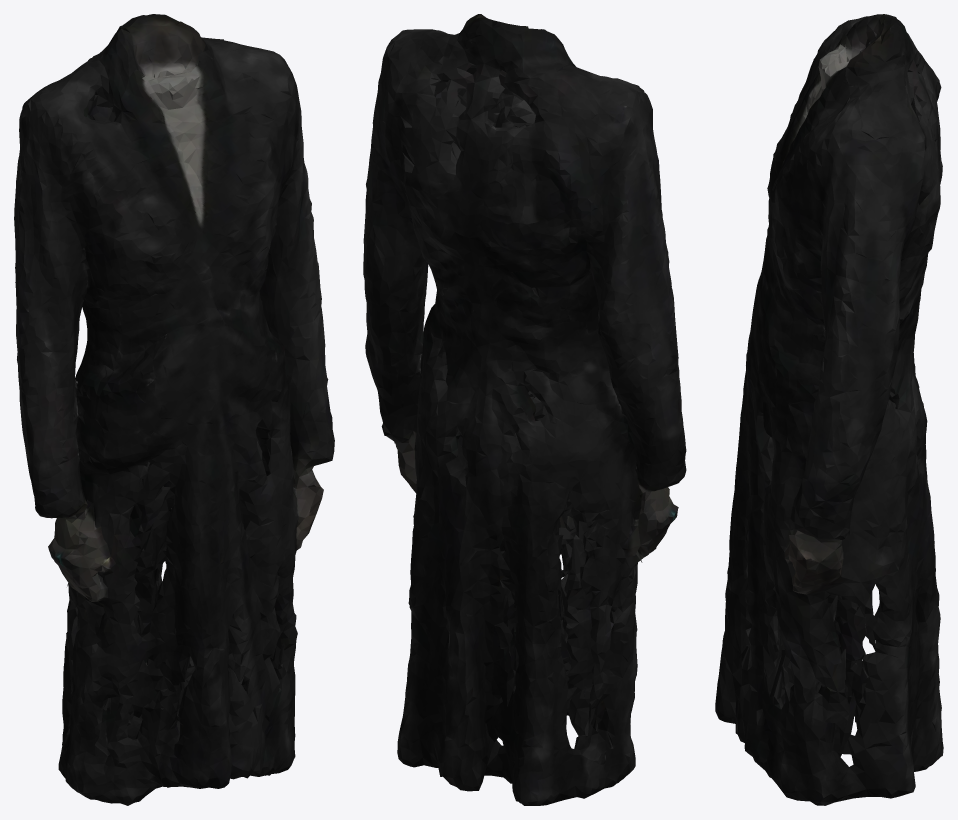
3 views of the same model, side by side, from view 1: azimuth 30°, elevation 25°; view 2: azimuth 150°, elevation 25°; view 3: azimuth 270°, elevation 25° (orthographic). The views are drawn at different scales.
Visible parts, largest first — view 1: geometry_0; view 2: geometry_0; view 3: geometry_0.
Boxes of the visible parts, box(x1,y1,x2,y2) form: geometry_0: box(14, 14, 334, 805); geometry_0: box(363, 14, 686, 805); geometry_0: box(715, 14, 943, 805).
Bounding box in the file's own units: 0.4254 × 1 × 0.282.
Materials: 1 (1 with a texture image).
